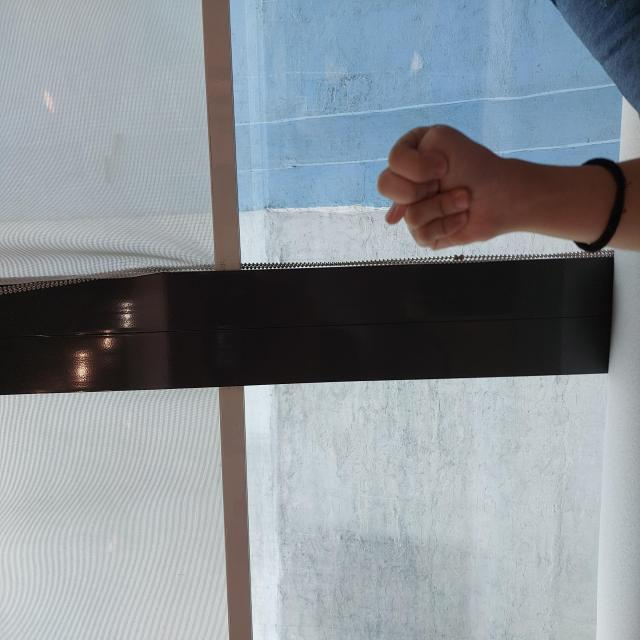N: (390, 376, 517, 489)
